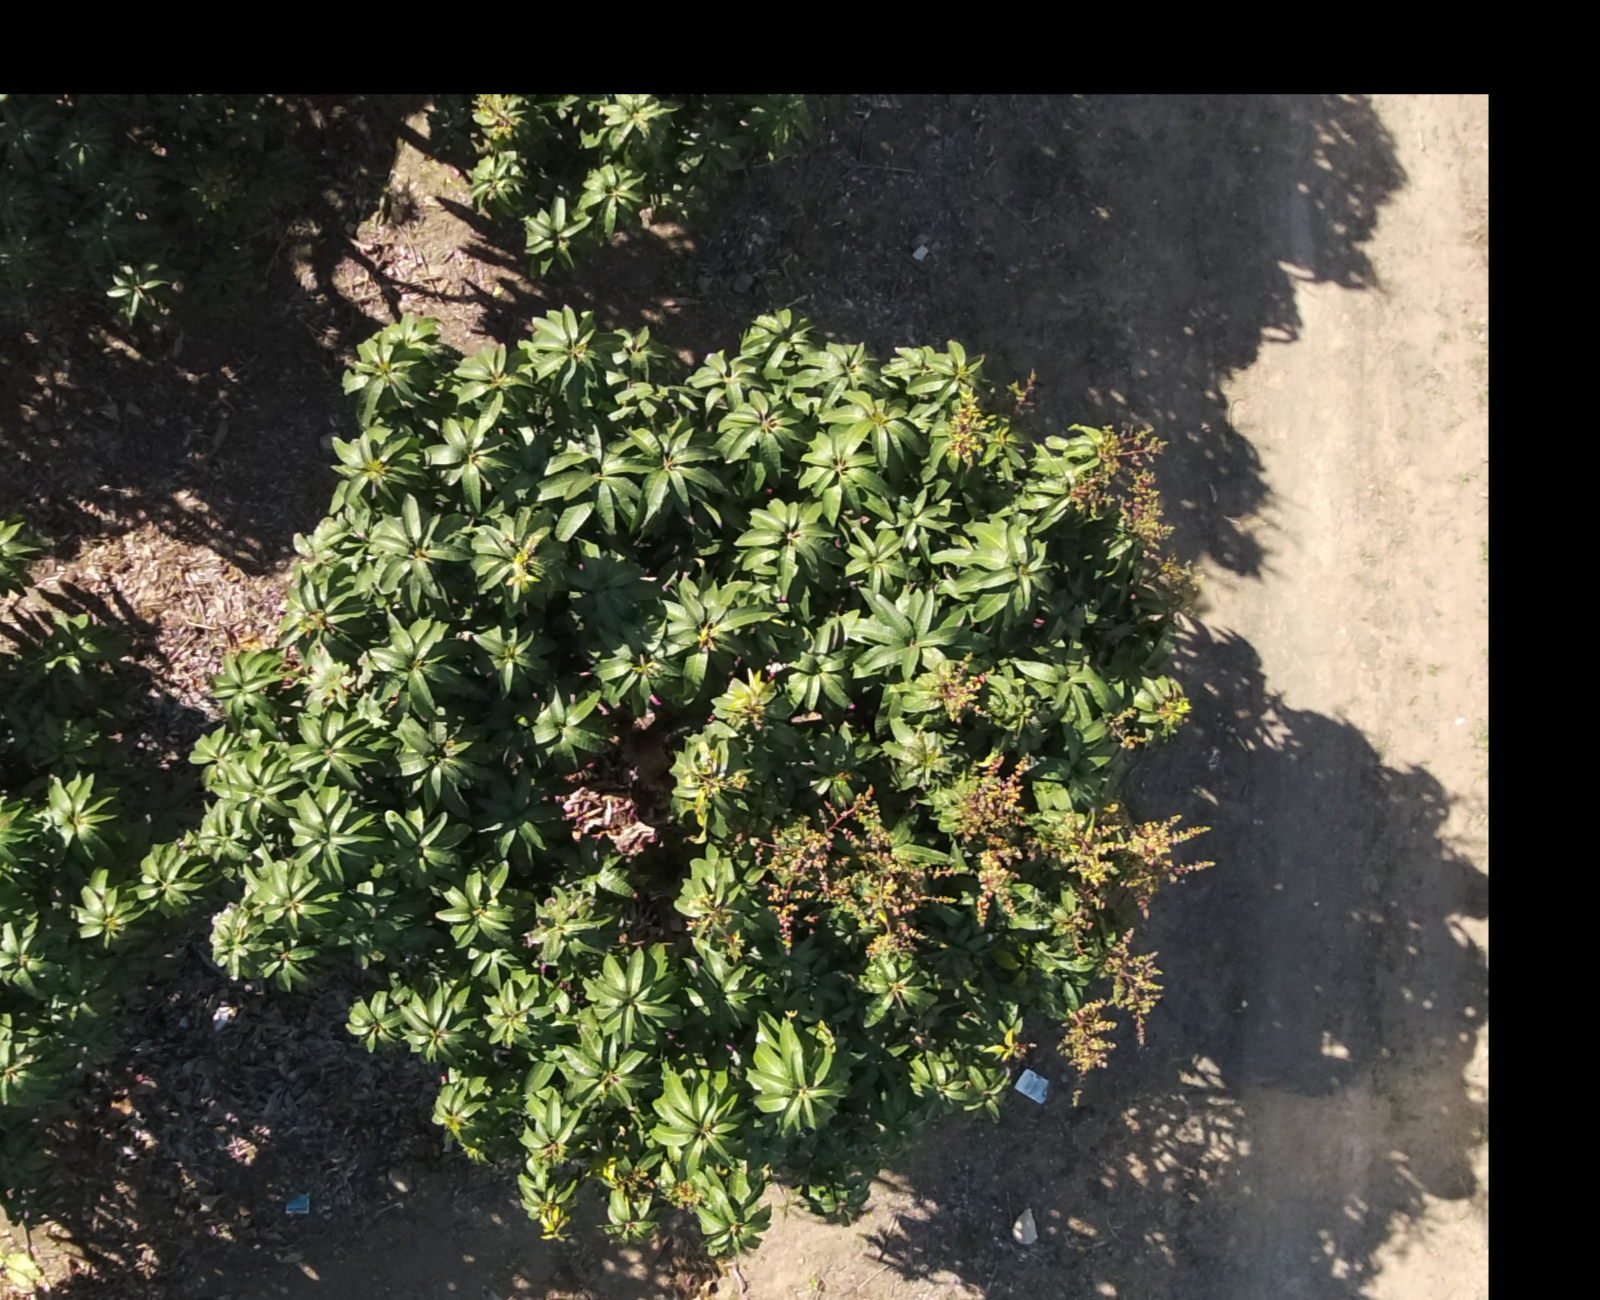flowers: (760, 788, 935, 1025), (1036, 803, 1210, 910), (670, 671, 779, 830), (1057, 929, 1160, 1073), (1071, 427, 1170, 549), (957, 755, 1026, 923), (1057, 1000, 1114, 1073), (934, 658, 984, 722), (976, 850, 1016, 925), (472, 96, 525, 139), (1463, 1021, 1487, 1105), (1105, 708, 1149, 749)
